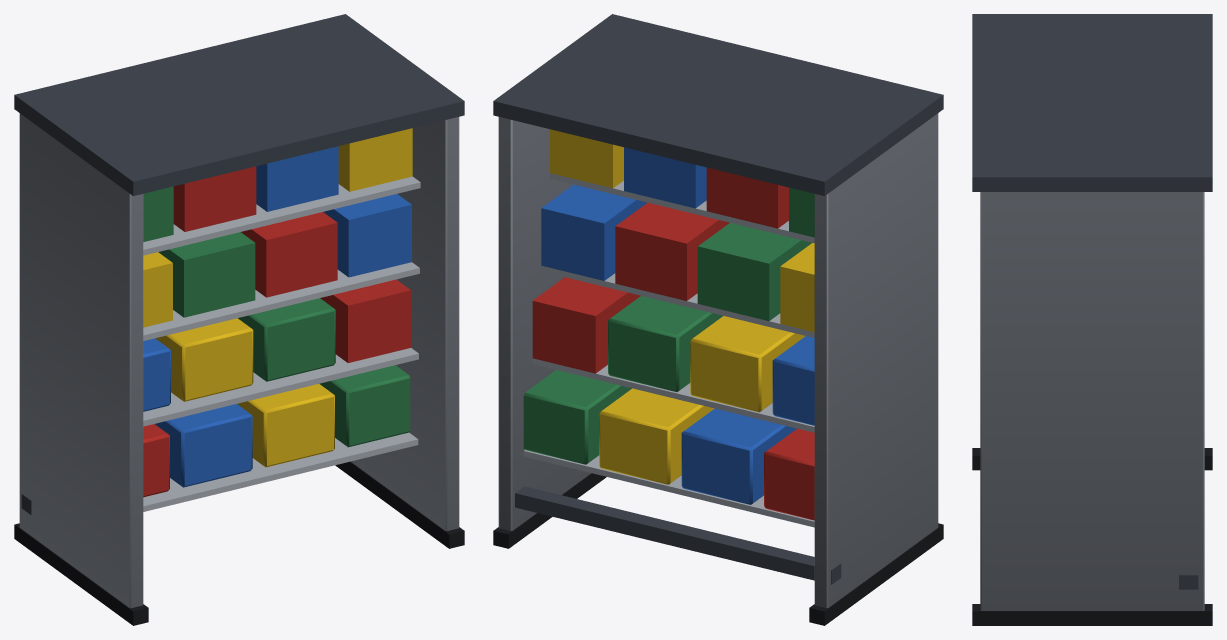
Rendered from storagebin_parts_bins_stand.glb.
3 renders of one model, left to right at view 1: azimuth 30°, elevation 25°; view 2: azimuth 150°, elevation 25°; view 3: azimuth 270°, elevation 25°, orthographic.
Visible parts, largest first — view 1: storagebin_parts_bins_stand; view 2: storagebin_parts_bins_stand; view 3: storagebin_parts_bins_stand.
Part boxes in pixels (box(x1,y1,x2,y2)): storagebin_parts_bins_stand: box(14, 14, 464, 625); storagebin_parts_bins_stand: box(493, 14, 943, 625); storagebin_parts_bins_stand: box(972, 14, 1212, 625).
Size of the model in its own units: 1.21 by 1.55 by 0.75.
